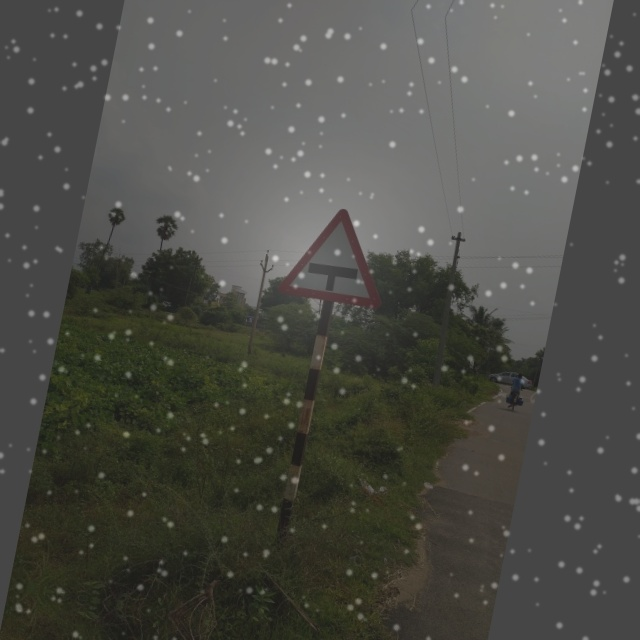T_Intersection: (263, 178, 403, 322)
